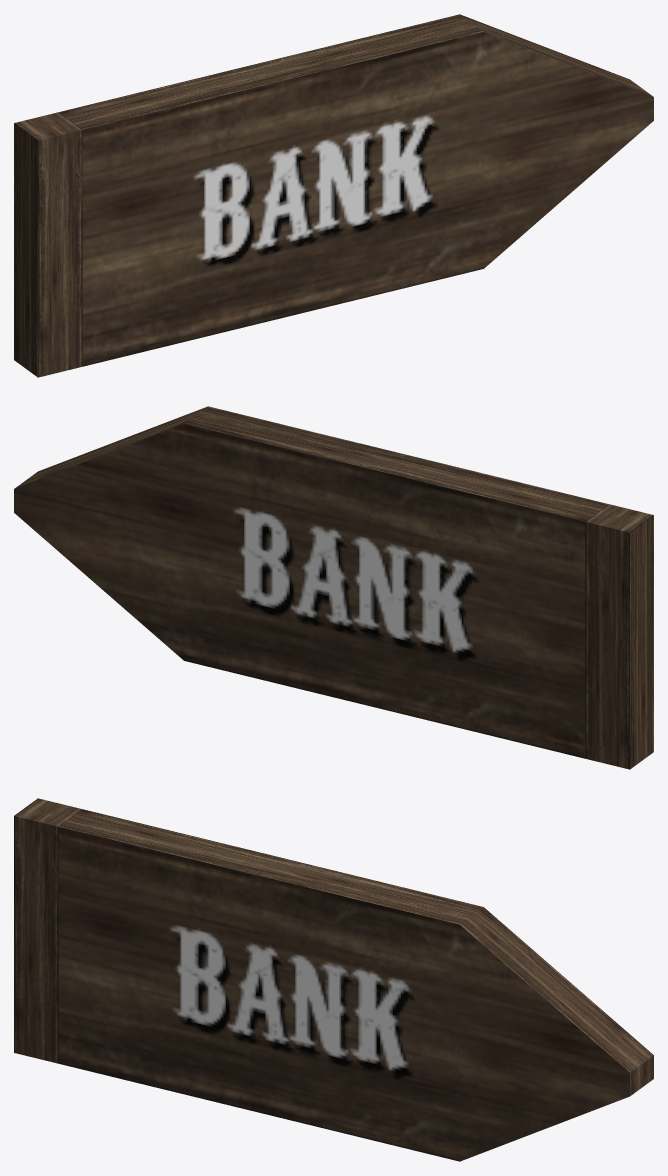
File: wooden-sign-05.fbx
3 renders of one model, top to bottom at view 1: azimuth 30°, elevation 25°; view 2: azimuth 150°, elevation 25°; view 3: azimuth 330°, elevation 25°, orthographic.
Parts seen in each view (by area): view 1: Cube.249; view 2: Cube.249; view 3: Cube.249.
Boxes of the visible parts, x1,y1,x2,y2 form: Cube.249: (14,14,653,377); Cube.249: (14,406,653,769); Cube.249: (14,798,653,1161).
Bounding box in the file's own units: 0.8128 × 0.2988 × 0.0549.
